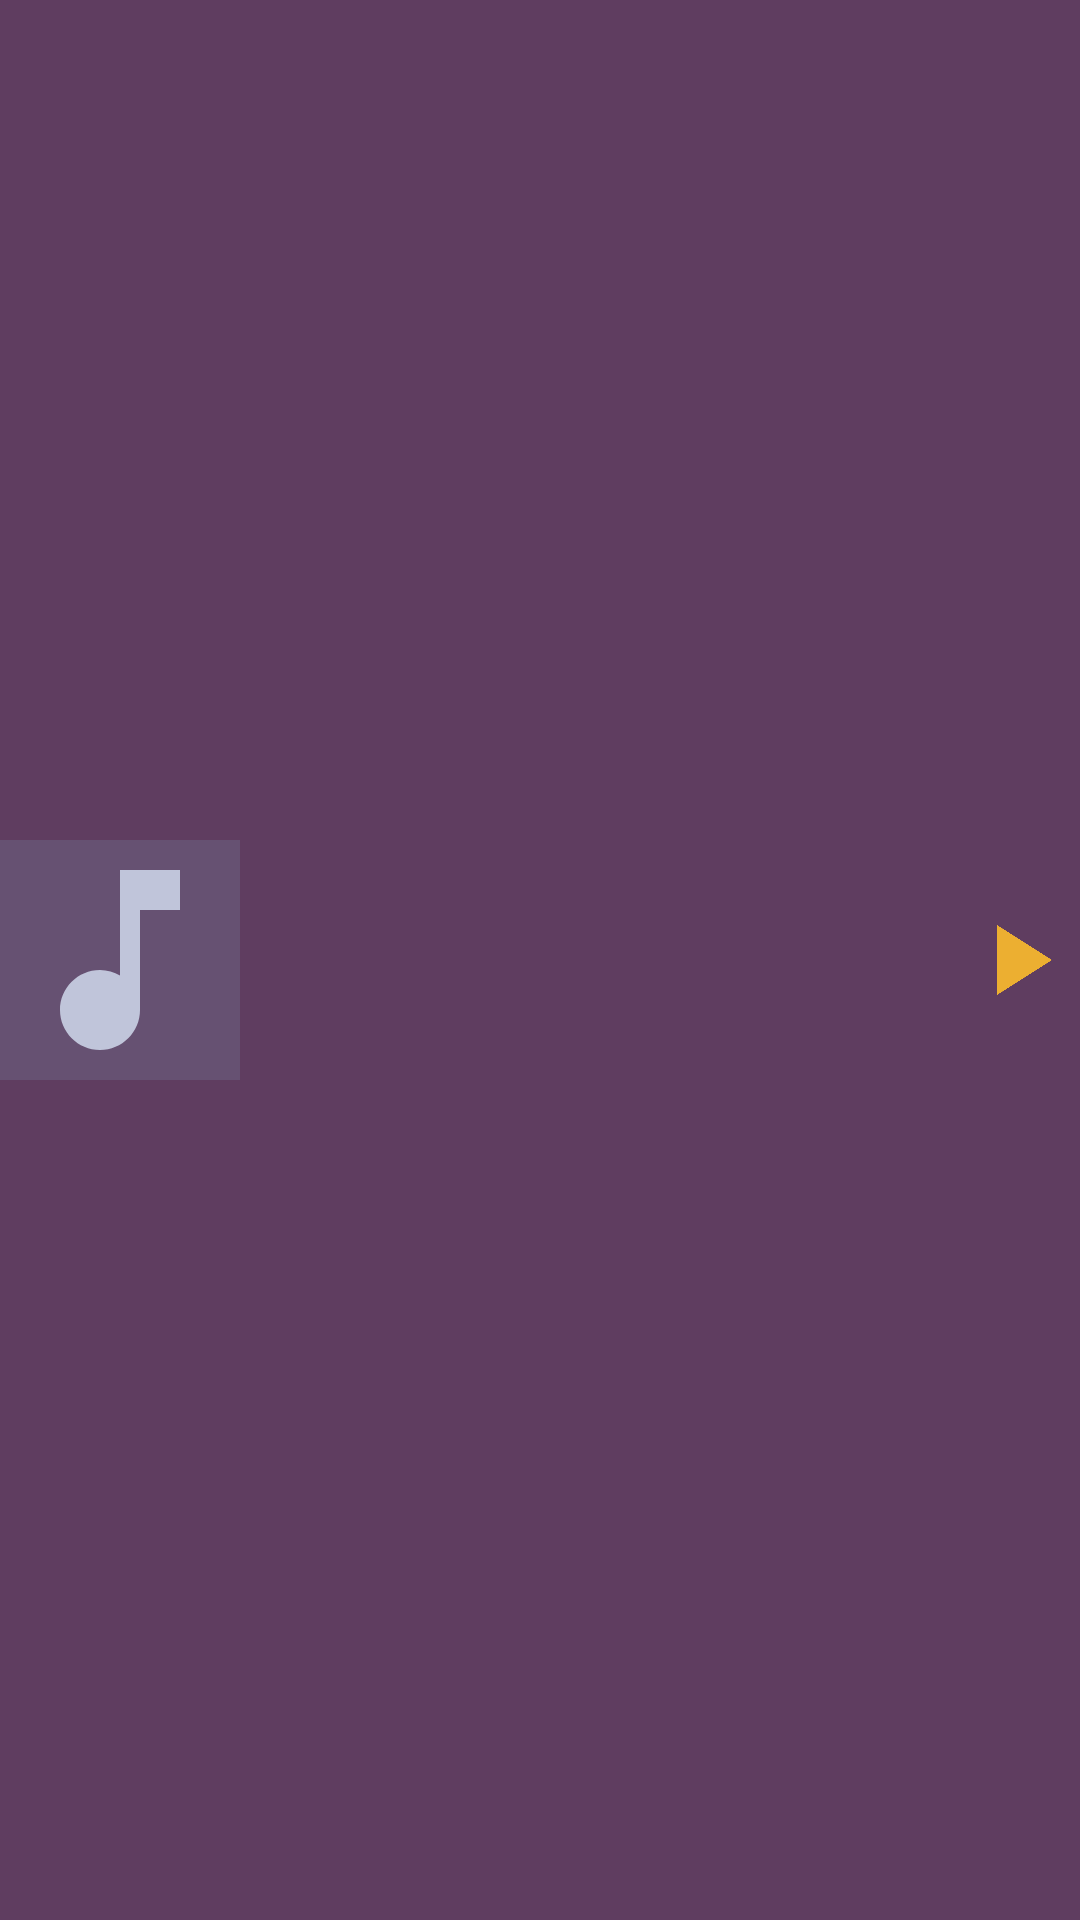

Point at icon controls on the screen. Image size 1080px×1920px, points as point (x, y).
music note: point (120, 960)
play arrow: point (1024, 960)
